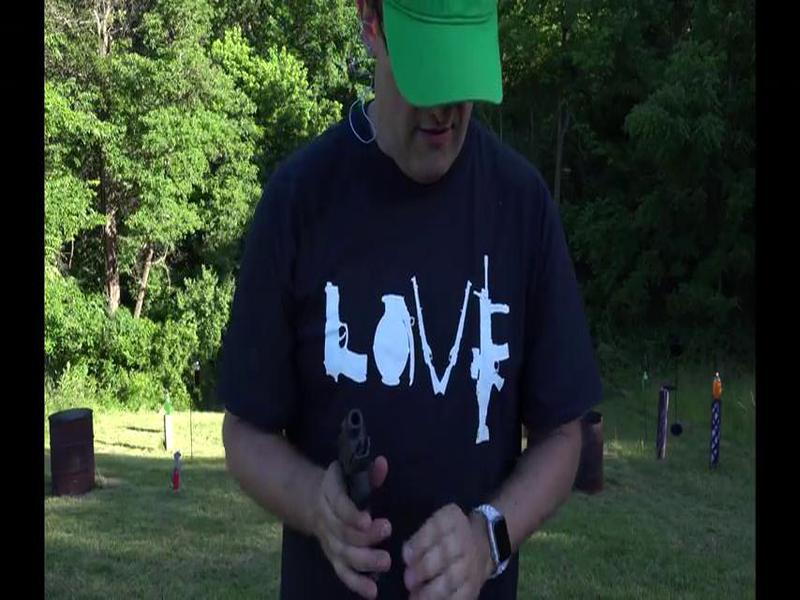Pistola: (327, 407, 400, 536)
